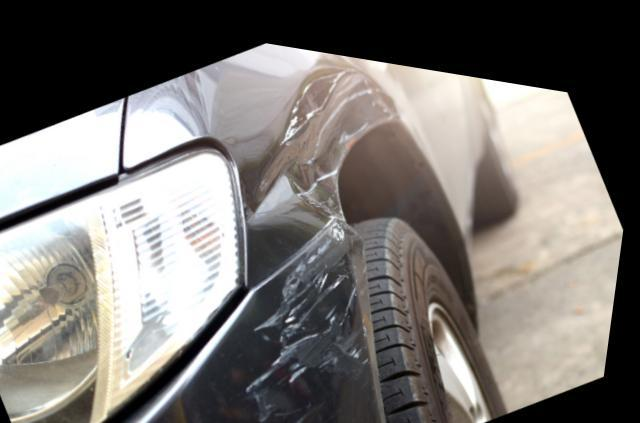dent: (231, 56, 389, 215)
scratch: (250, 204, 379, 411)
